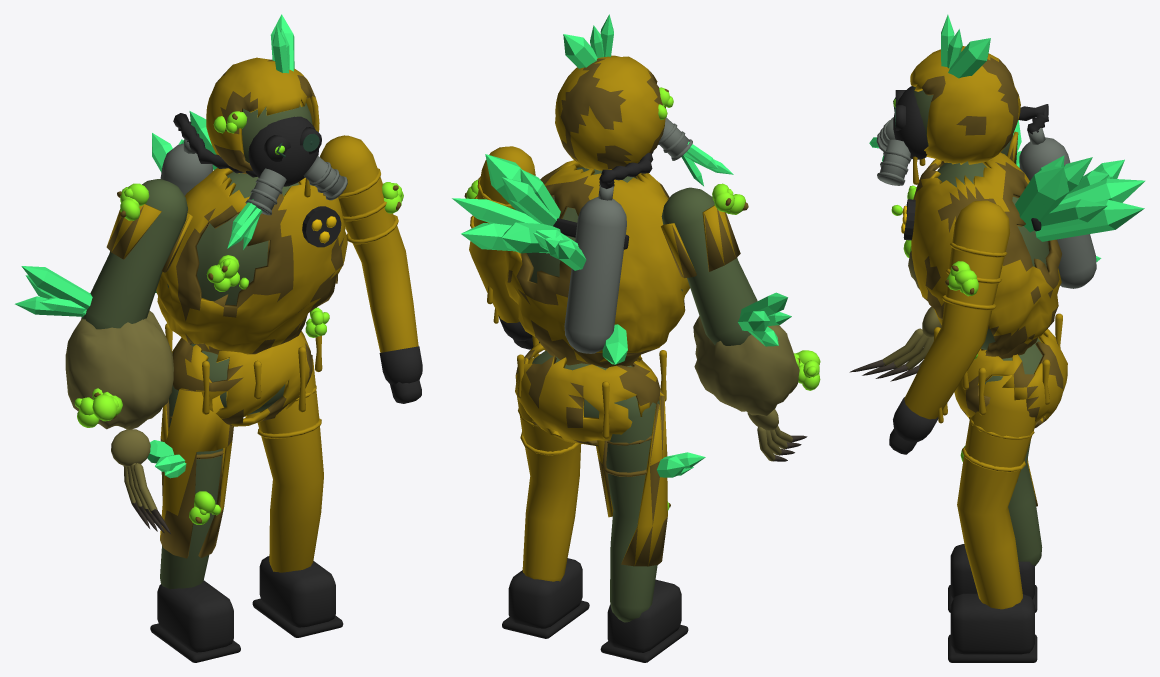
The model's file is zombi_radiactivo_hd.obj.
3 views of the same model, side by side, from view 1: azimuth 30°, elevation 25°; view 2: azimuth 150°, elevation 25°; view 3: azimuth 270°, elevation 25° (orthographic). The views are drawn at different scales.
Parts seen in each view (by area): view 1: Torso, RightArm, RightLeg, Head, LeftLeg, LeftArm; view 2: Torso, RightArm, RightLeg, Head, LeftLeg, LeftArm; view 3: Torso, LeftLeg, Head, LeftArm, RightLeg, RightArm.
Boxes of the visible parts, x1,y1,x2,y2 form: Torso: [152, 111, 347, 426]; RightArm: [15, 179, 192, 533]; RightLeg: [147, 385, 240, 662]; Head: [206, 14, 347, 249]; LeftLeg: [252, 359, 343, 637]; LeftArm: [320, 135, 422, 403]; Torso: [452, 151, 689, 446]; RightArm: [661, 183, 820, 461]; RightLeg: [596, 389, 705, 662]; Head: [555, 14, 733, 186]; LeftLeg: [502, 354, 589, 638]; LeftArm: [464, 146, 539, 349]; Torso: [891, 104, 1145, 428]; LeftLeg: [948, 376, 1037, 662]; Head: [869, 14, 1020, 185]; LeftArm: [889, 200, 1009, 454]; RightLeg: [948, 441, 1042, 612]; RightArm: [849, 120, 1021, 381].
Size of the model in its own units: 3.22 by 5.33 by 2.32.
1 material, 1 textured.
